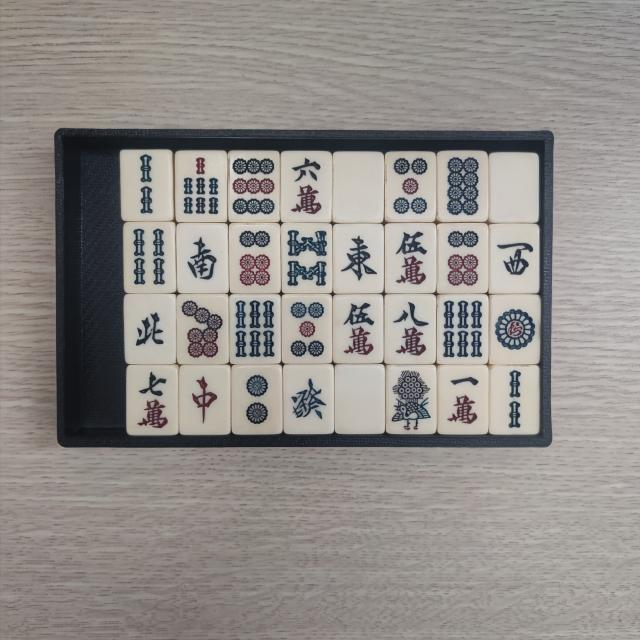hdg: (289, 368, 330, 429)
hdr: (183, 368, 223, 430)
hdw: (338, 156, 380, 218), (496, 157, 536, 218), (340, 371, 380, 431)
hwe: (337, 228, 380, 288)
hwn: (130, 302, 172, 362)
hws: (181, 228, 223, 290)
hww: (494, 228, 534, 288)
sb1: (390, 368, 432, 432)
sb2: (125, 152, 168, 216), (496, 369, 537, 432)
sb4: (128, 225, 170, 288)
sb6: (235, 301, 279, 363), (442, 300, 484, 361)
sb7: (180, 156, 224, 218)
sb8: (286, 226, 331, 290)
sc1: (443, 370, 483, 428)
sc5: (391, 228, 432, 290), (338, 299, 379, 359)
sc6: (287, 154, 328, 218)
sc7: (133, 370, 175, 432)
sc8: (389, 298, 431, 359)
sd1: (495, 298, 539, 361)
sd2: (236, 370, 278, 430)
sd5: (287, 299, 330, 360), (390, 155, 430, 217)
sd6: (234, 228, 276, 290), (442, 228, 483, 289)
sd7: (180, 298, 224, 361)
sd8: (442, 156, 483, 218)
sd9: (229, 158, 275, 221)
